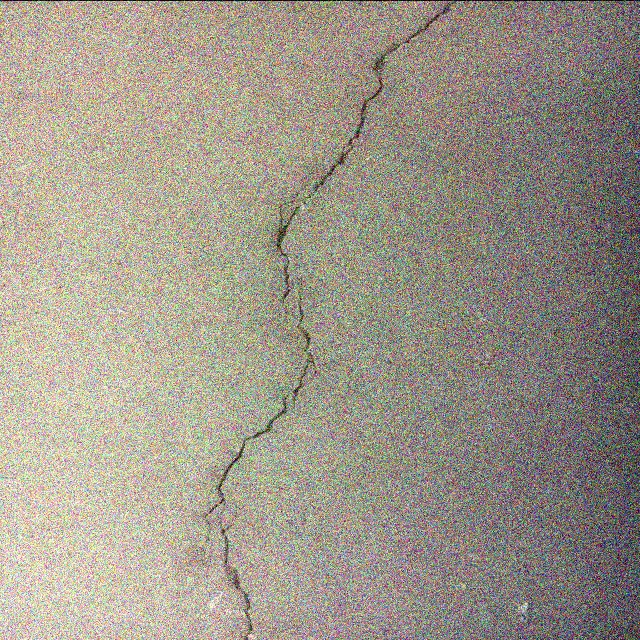SurfaceCrack: (180, 1, 468, 640)
